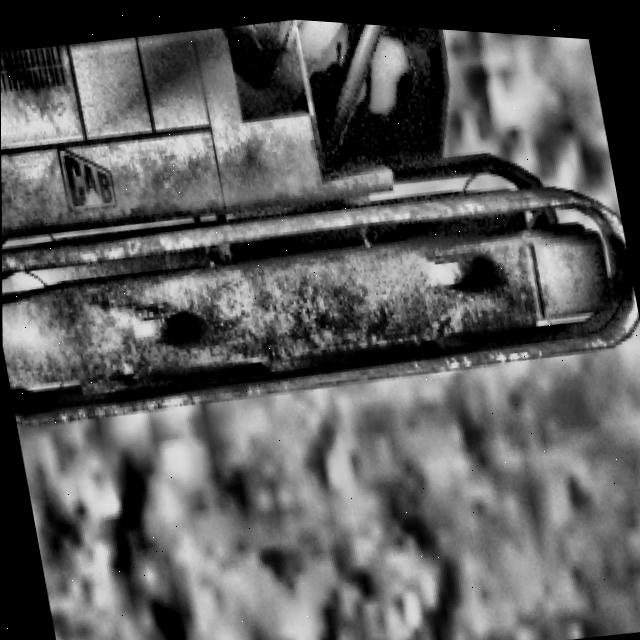excavator: (0, 0, 640, 459)
